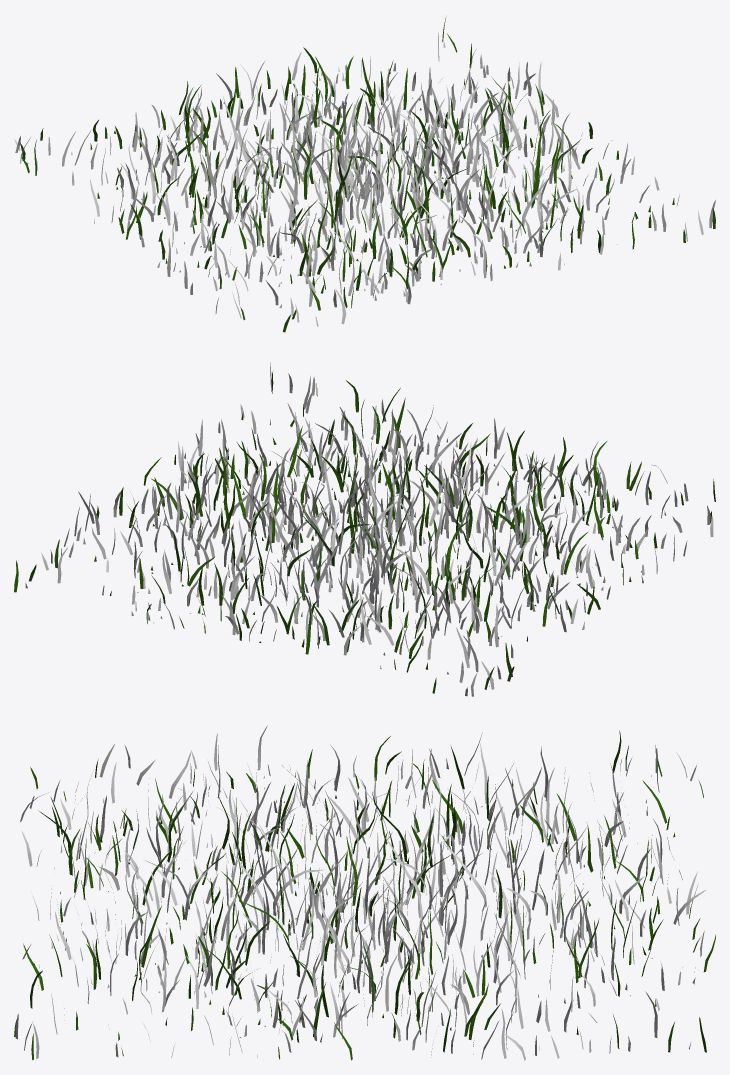
The model's file is grass.obj.
The picture shows the model from 3 angles, top to bottom: view 1: azimuth 30°, elevation 25°; view 2: azimuth 150°, elevation 25°; view 3: azimuth 270°, elevation 25°; orthographic projection. The views are drawn at different scales.
Parts seen in each view (by area): view 1: VP_Free_Grass_1; view 2: VP_Free_Grass_1; view 3: VP_Free_Grass_1.
Boxes of the visible parts, left/top/right/bottom form: VP_Free_Grass_1: left=14, top=18, right=715, bottom=332; VP_Free_Grass_1: left=14, top=362, right=715, bottom=696; VP_Free_Grass_1: left=14, top=725, right=715, bottom=1060.
Bounding box in the file's own units: 10.16 × 1.4 × 10.13.
